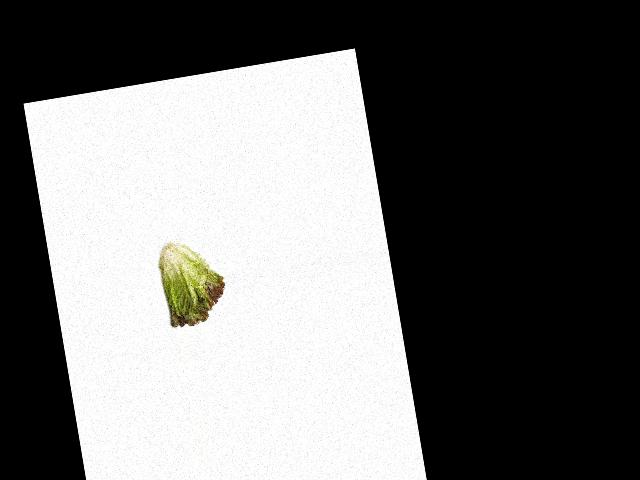lettuce: (157, 235, 229, 331)
